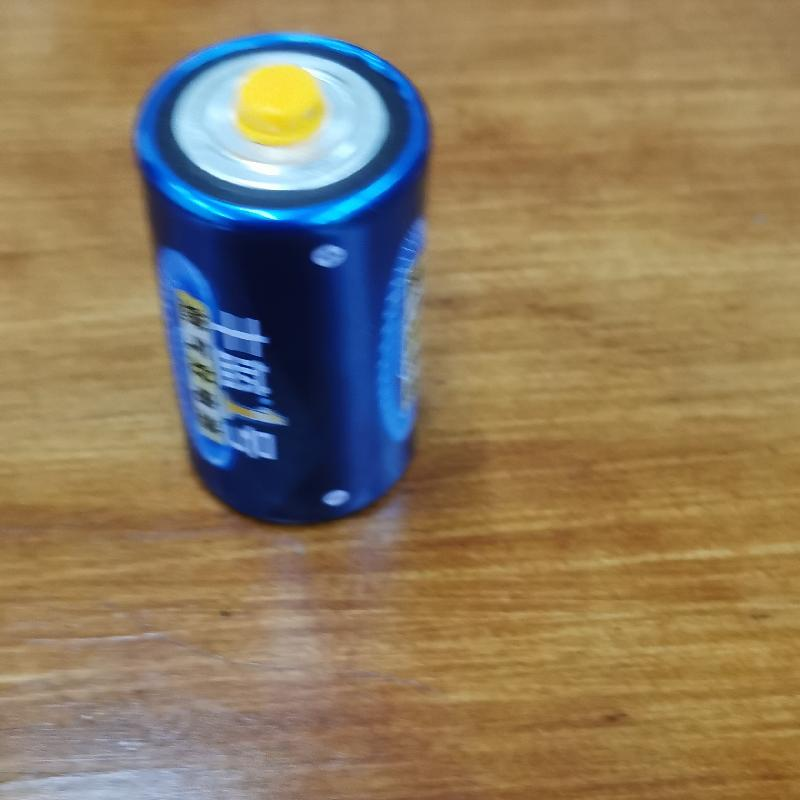battery: (132, 25, 436, 542)
